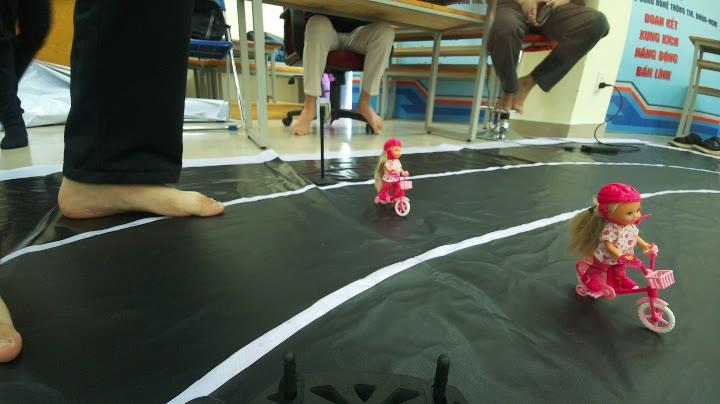pedestrian: (560, 166, 682, 337), (365, 133, 428, 217)
